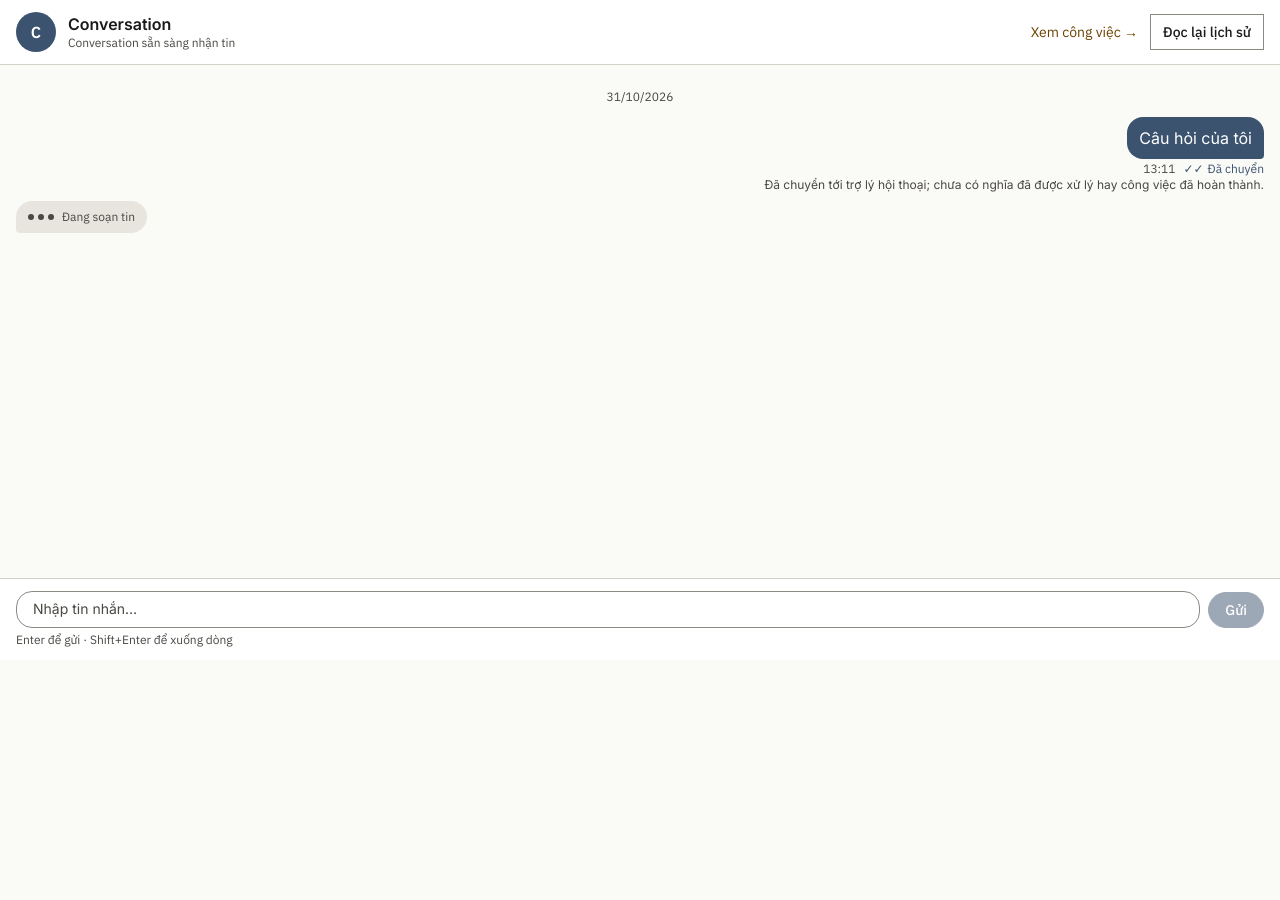
Test: shows composing only after delivery, while ready, recently and until a reply arrives
Expected: the text "Đang soạn tin" is shown, [16,201,147,233]
Click the button "Đọc lại lịch sử" at (1207, 32), box [1150,14,1264,50]
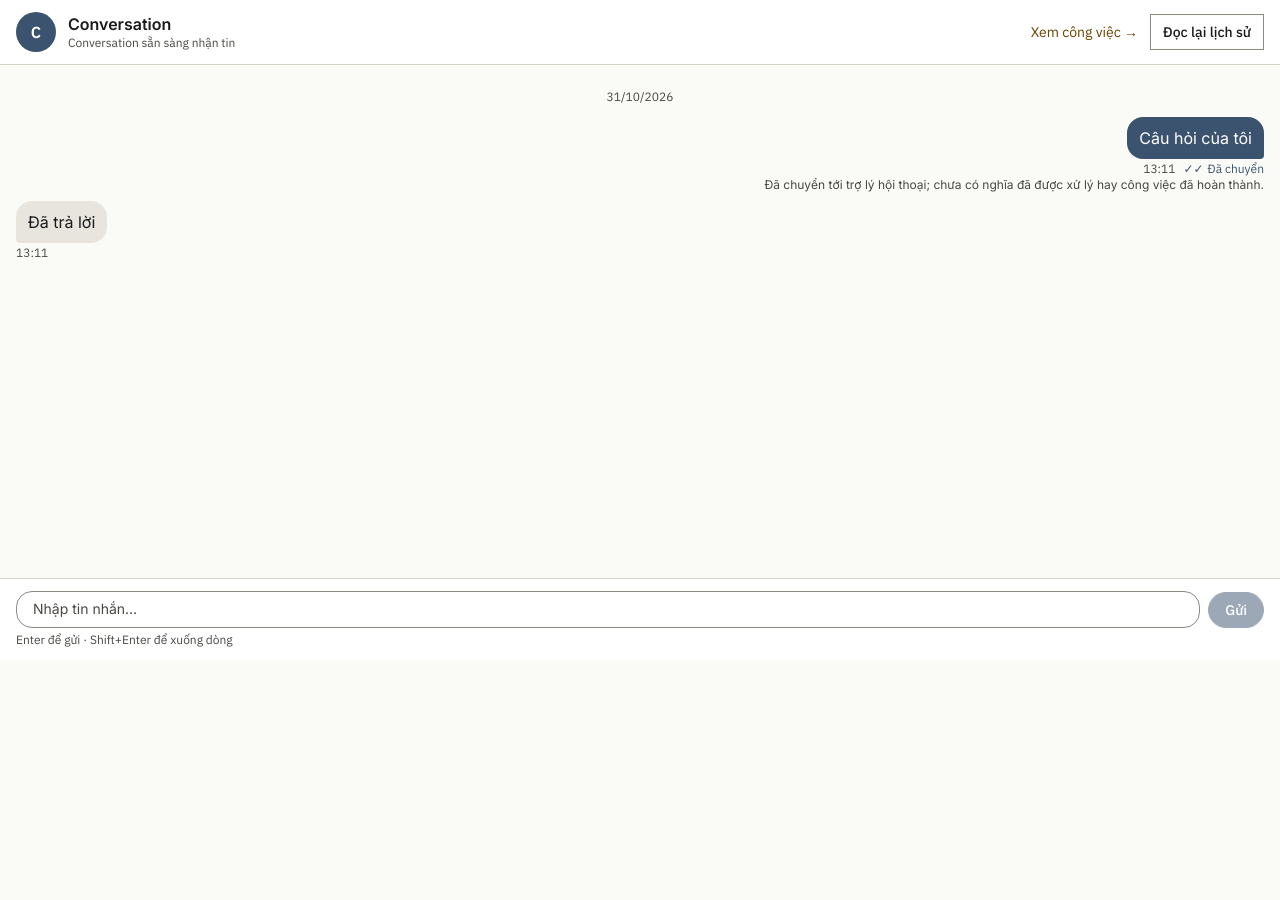
Result: the text "Đã trả lời" is shown at [16,201,107,243]
Result: the text "Đang soạn tin" is gone
